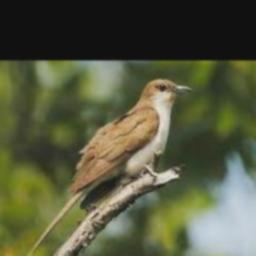Cuckoo: (26, 79, 193, 256)
